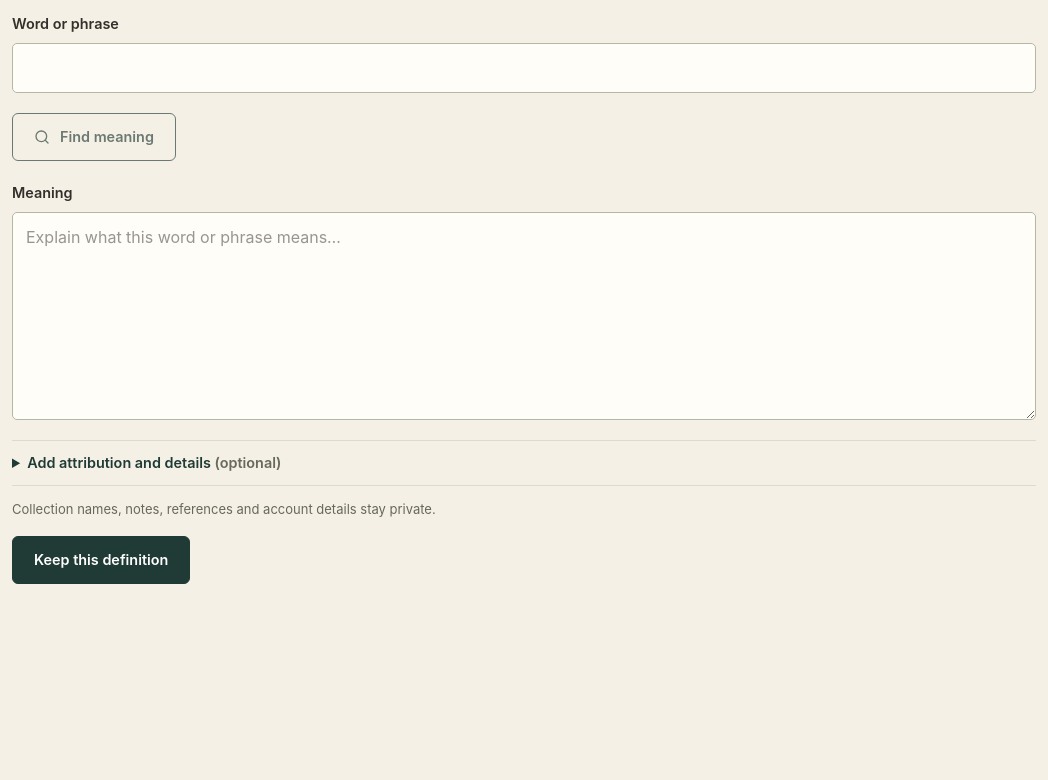
Test case: shows manual fallback for missing or unavailable words
Step 1. Type "unknown" into the field labelled "Word or phrase" → x=524, y=68, box left=12, top=43, right=1036, bottom=93
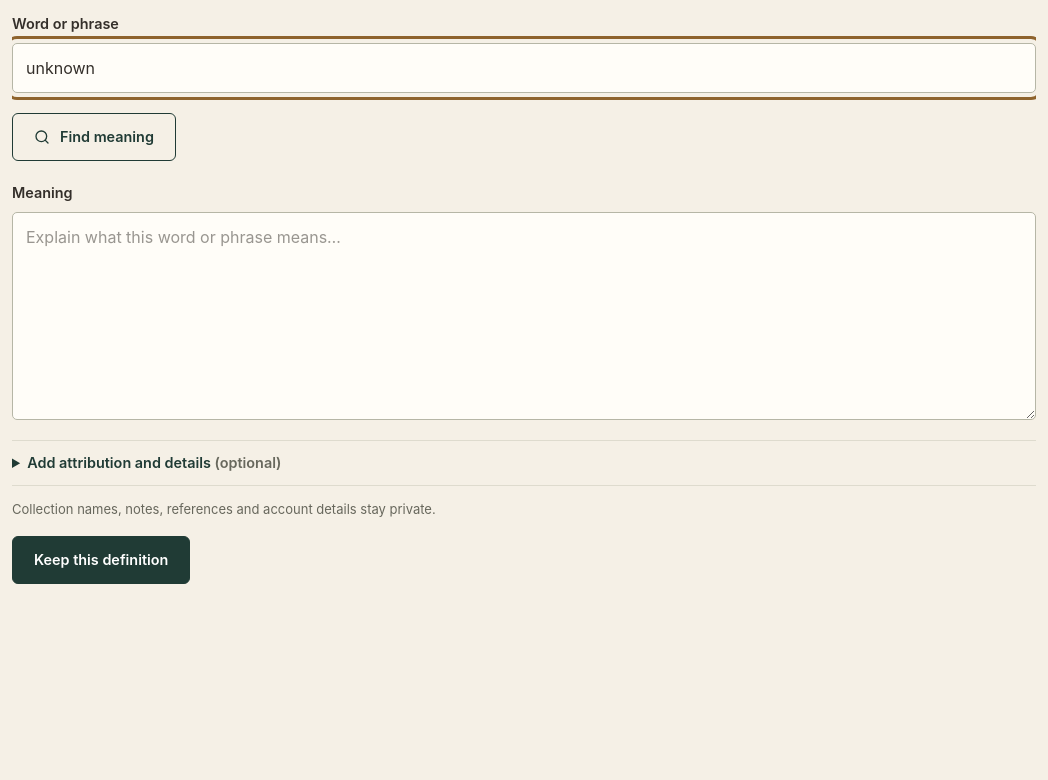
Step 2. Click the button "Find meaning" → x=94, y=137, box left=12, top=113, right=176, bottom=161
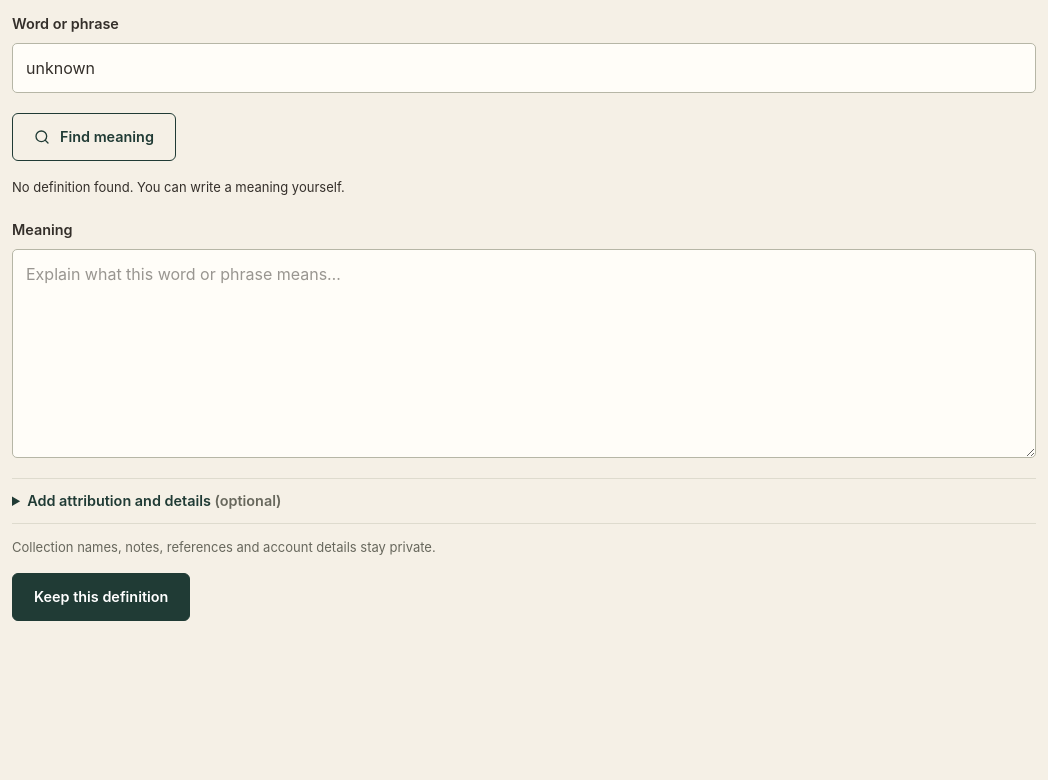
Expected: the text box labelled "Meaning" is enabled, left=12, top=249, right=1036, bottom=458
Expected: the text "No definition found. You can write a meaning yourself." is shown, left=12, top=179, right=345, bottom=195
